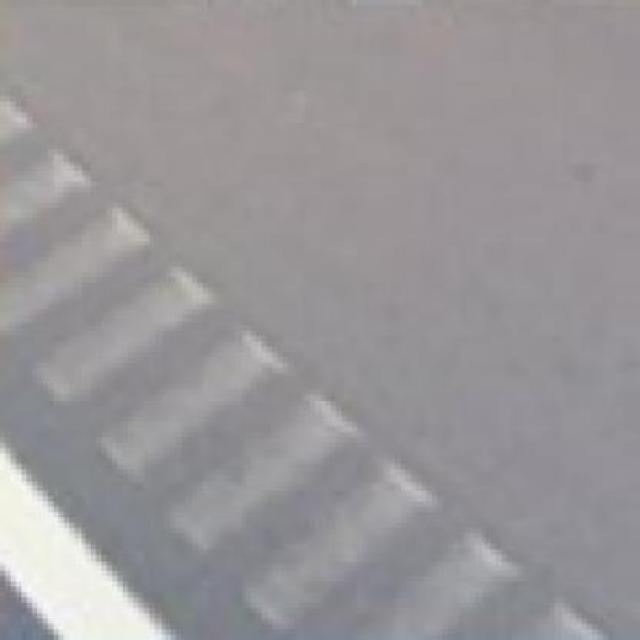crosswalk: (0, 88, 613, 640)
